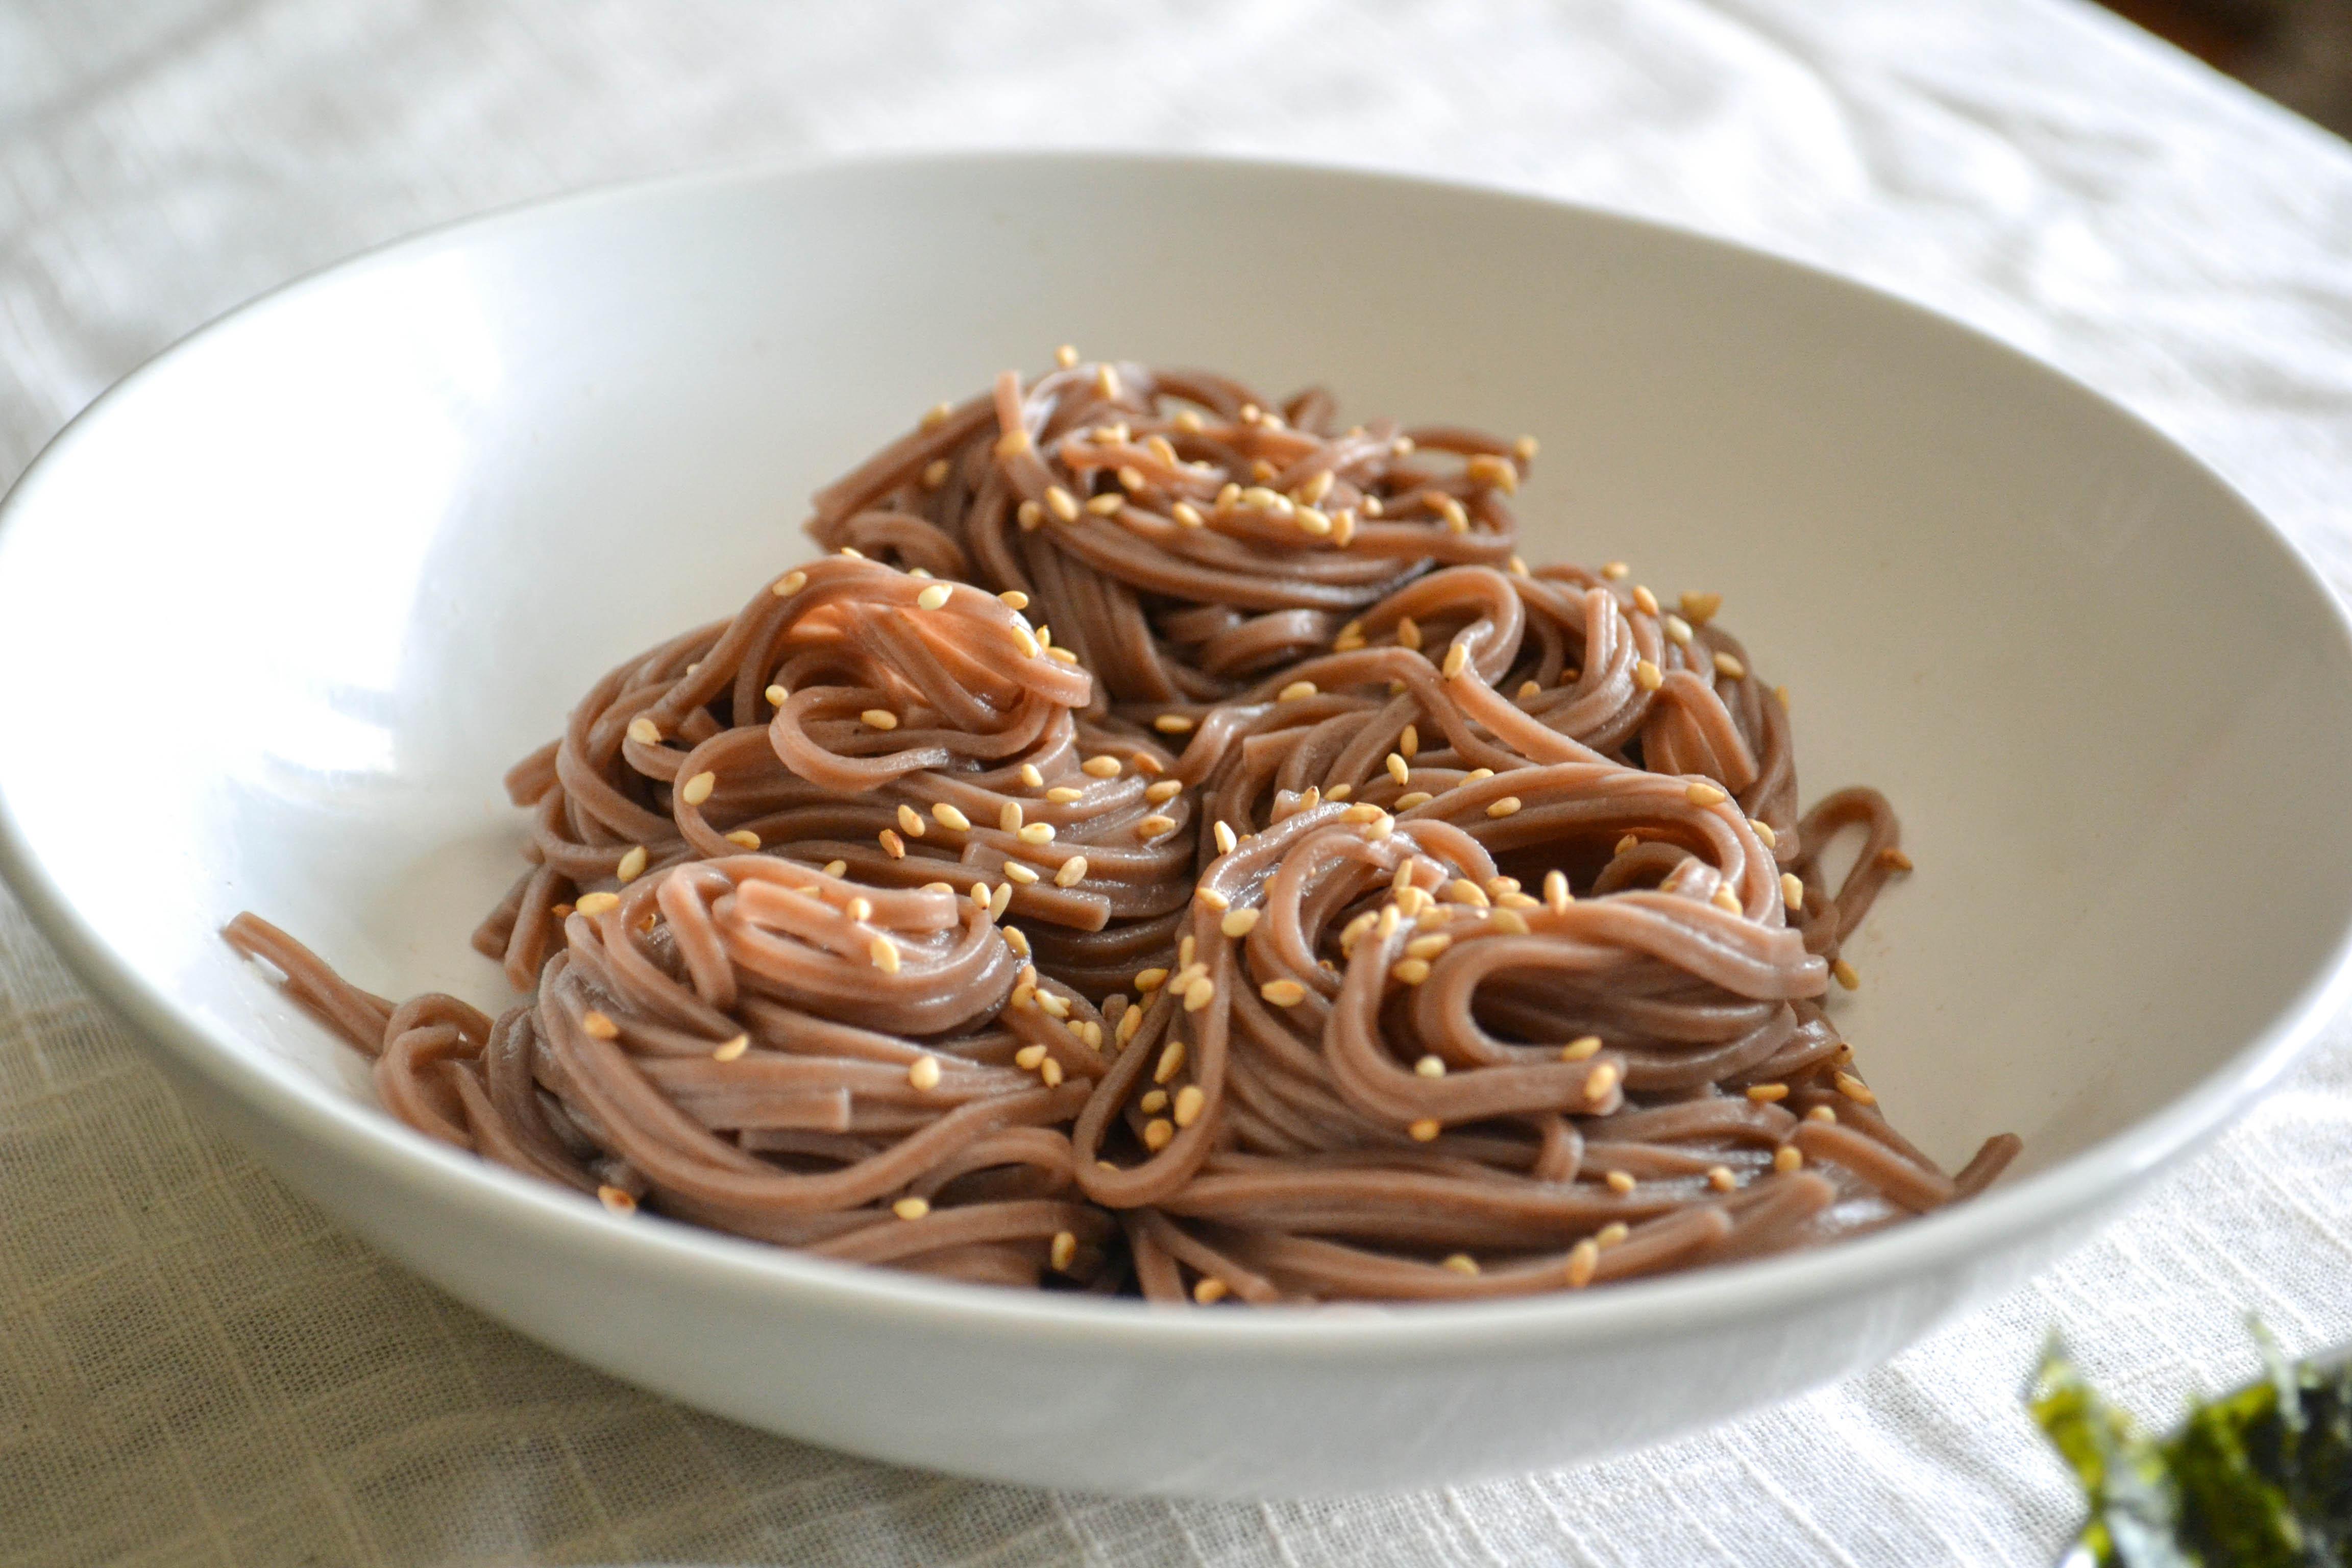Soba: (318, 352, 1986, 1379)
